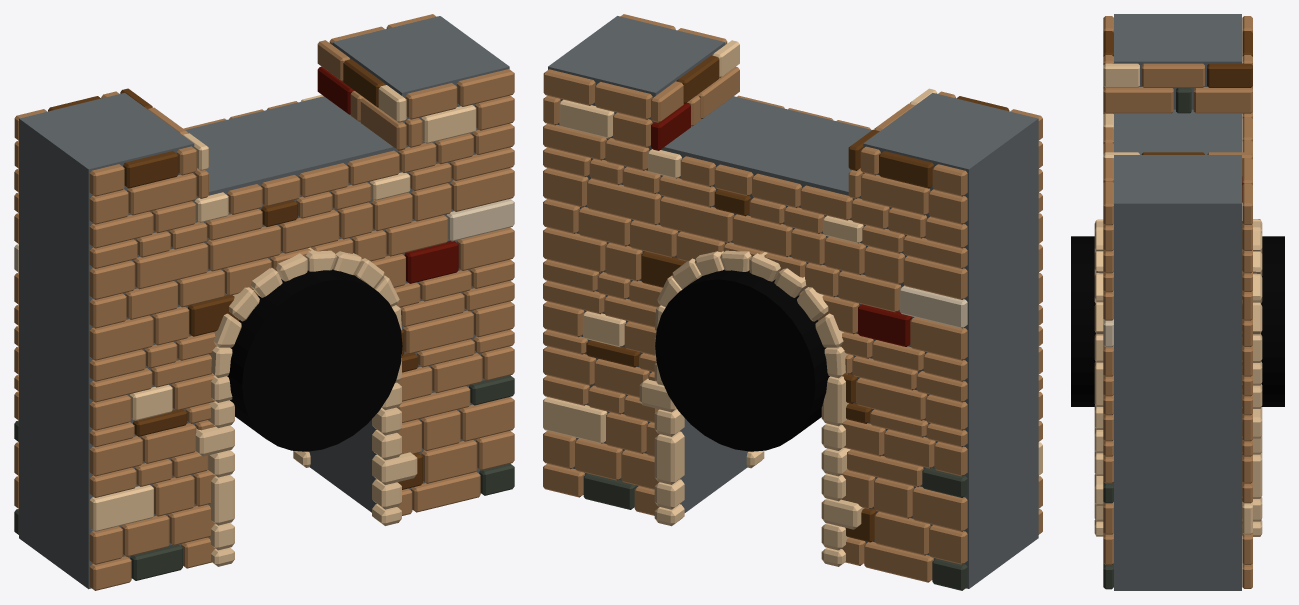
Rendered from wall-section-with-doorway-rb.glb.
3 renders of one model, left to right at view 1: azimuth 30°, elevation 25°; view 2: azimuth 150°, elevation 25°; view 3: azimuth 270°, elevation 25°, orthographic. The views are drawn at different scales.
Parts seen in each view (by area): view 1: wall-back-lower, wall-core, wall-section-with-doorway, doorframe.001, wall-back-upper-right, wall-back-upper-left, wall-crenellation-right, wall-front-lower, wall-crenellation-left, wall-front-upper-right; view 2: wall-front-lower, wall-core, wall-section-with-doorway, doorframe.002, wall-front-upper-left, wall-front-upper-right, wall-crenellation-right, wall-back-lower, wall-crenellation-left; view 3: wall-core, wall-section-with-doorway, wall-crenellation-left, wall-back-lower, wall-front-lower, doorframe.002, doorframe.001, wall-back-upper-right, wall-front-upper-left, wall-crenellation-right, wall-front-upper-right, wall-back-upper-left.
Boxes of the visible parts, box(x1,y1,x2,y2) form: wall-back-lower: box(89, 123, 514, 590); wall-core: box(19, 16, 509, 589); wall-section-with-doorway: box(227, 269, 402, 451); doorframe.001: box(195, 247, 417, 566); wall-back-upper-right: box(405, 69, 514, 147); wall-back-upper-left: box(89, 146, 196, 224); wall-crenellation-right: box(317, 40, 406, 150); wall-front-lower: box(14, 94, 323, 534); wall-crenellation-left: box(120, 88, 208, 198); wall-front-upper-right: box(14, 91, 119, 168); wall-front-lower: box(543, 123, 967, 590); wall-core: box(548, 16, 1038, 588); wall-section-with-doorway: box(655, 269, 829, 451); doorframe.002: box(639, 250, 864, 566); wall-front-upper-left: box(543, 69, 652, 147); wall-front-upper-right: box(860, 146, 967, 224); wall-crenellation-right: box(651, 40, 739, 150); wall-back-lower: box(737, 95, 1042, 534); wall-crenellation-left: box(848, 88, 937, 198); wall-core: box(1114, 14, 1241, 590); wall-section-with-doorway: box(1071, 236, 1284, 406); wall-crenellation-left: box(1103, 63, 1252, 113); wall-back-lower: box(1103, 112, 1113, 589); wall-front-lower: box(1242, 112, 1252, 588); doorframe.002: box(1242, 219, 1262, 536); doorframe.001: box(1094, 219, 1103, 536); wall-back-upper-right: box(1103, 158, 1113, 251); wall-front-upper-left: box(1242, 158, 1252, 250); wall-crenellation-right: box(1103, 152, 1252, 202); wall-front-upper-right: box(1242, 16, 1252, 88); wall-back-upper-left: box(1103, 16, 1113, 88).
Bounding box in the file's own units: 2.1 × 2 × 1.
